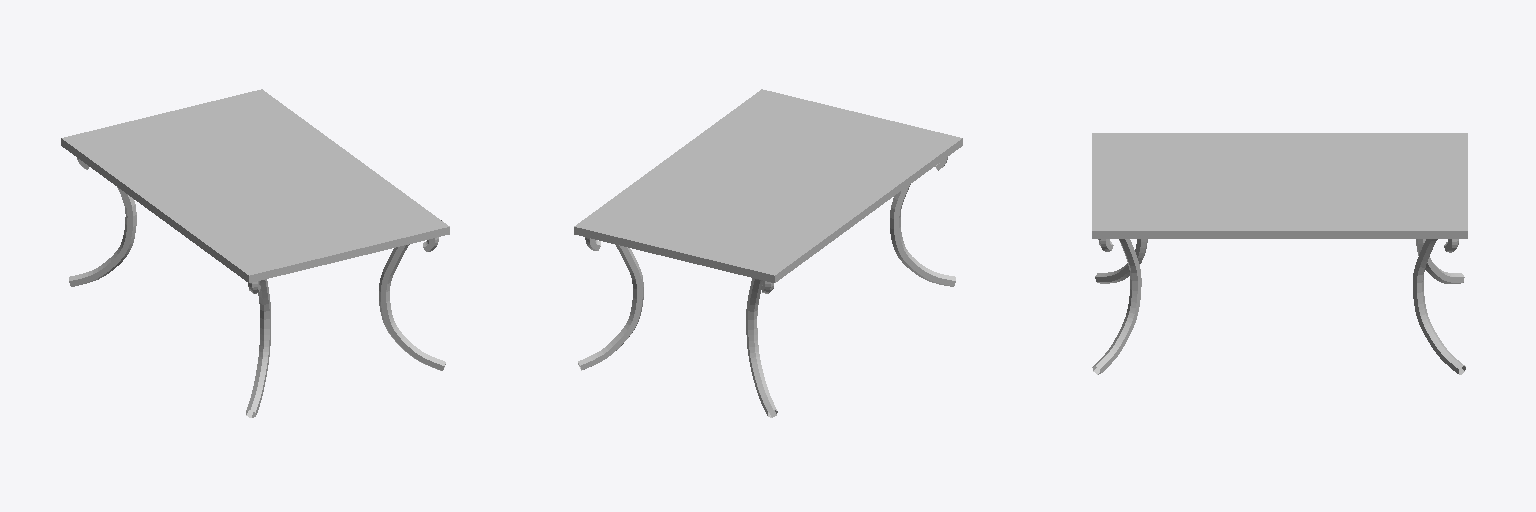
The model's file is housesp_021.obj.
3 renders of one model, left to right at view 1: azimuth 30°, elevation 25°; view 2: azimuth 150°, elevation 25°; view 3: azimuth 270°, elevation 25°, orthographic.
Bounding box in the file's own units: 106 × 74 × 171.